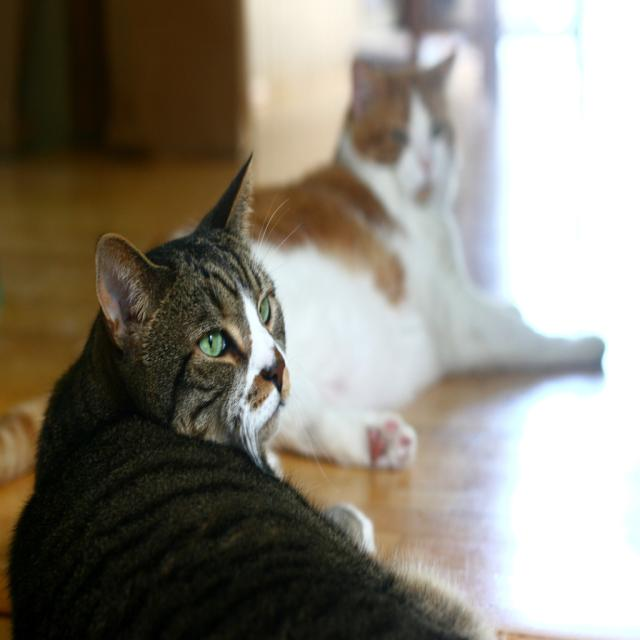Cat: (0, 46, 604, 482), (0, 153, 494, 638)
